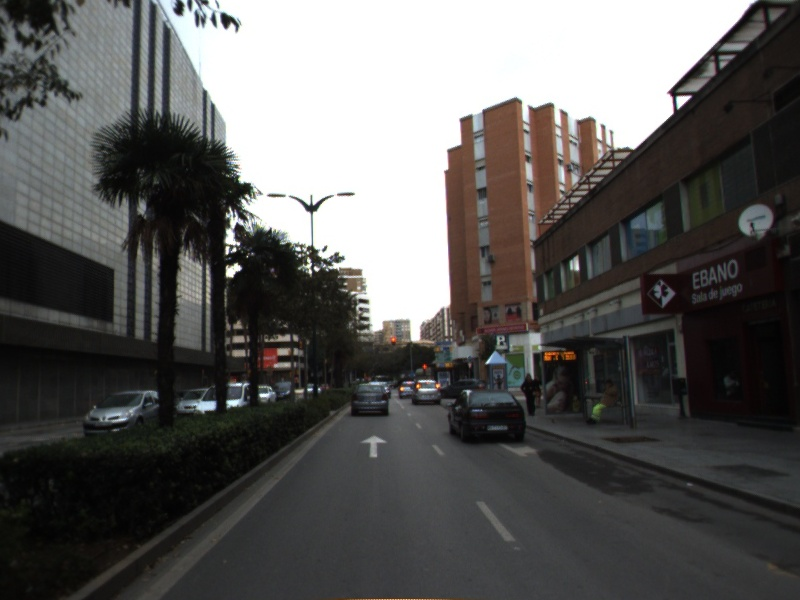STRAIGHT: (358, 433, 390, 459)
